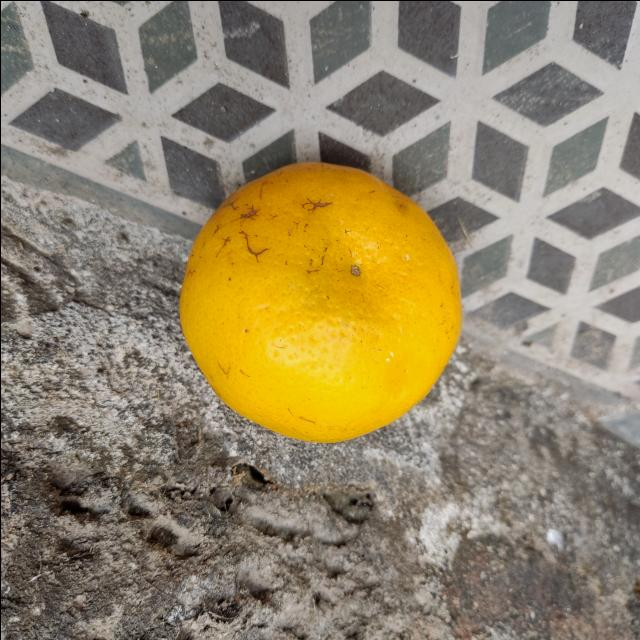orange: (177, 160, 462, 444)
